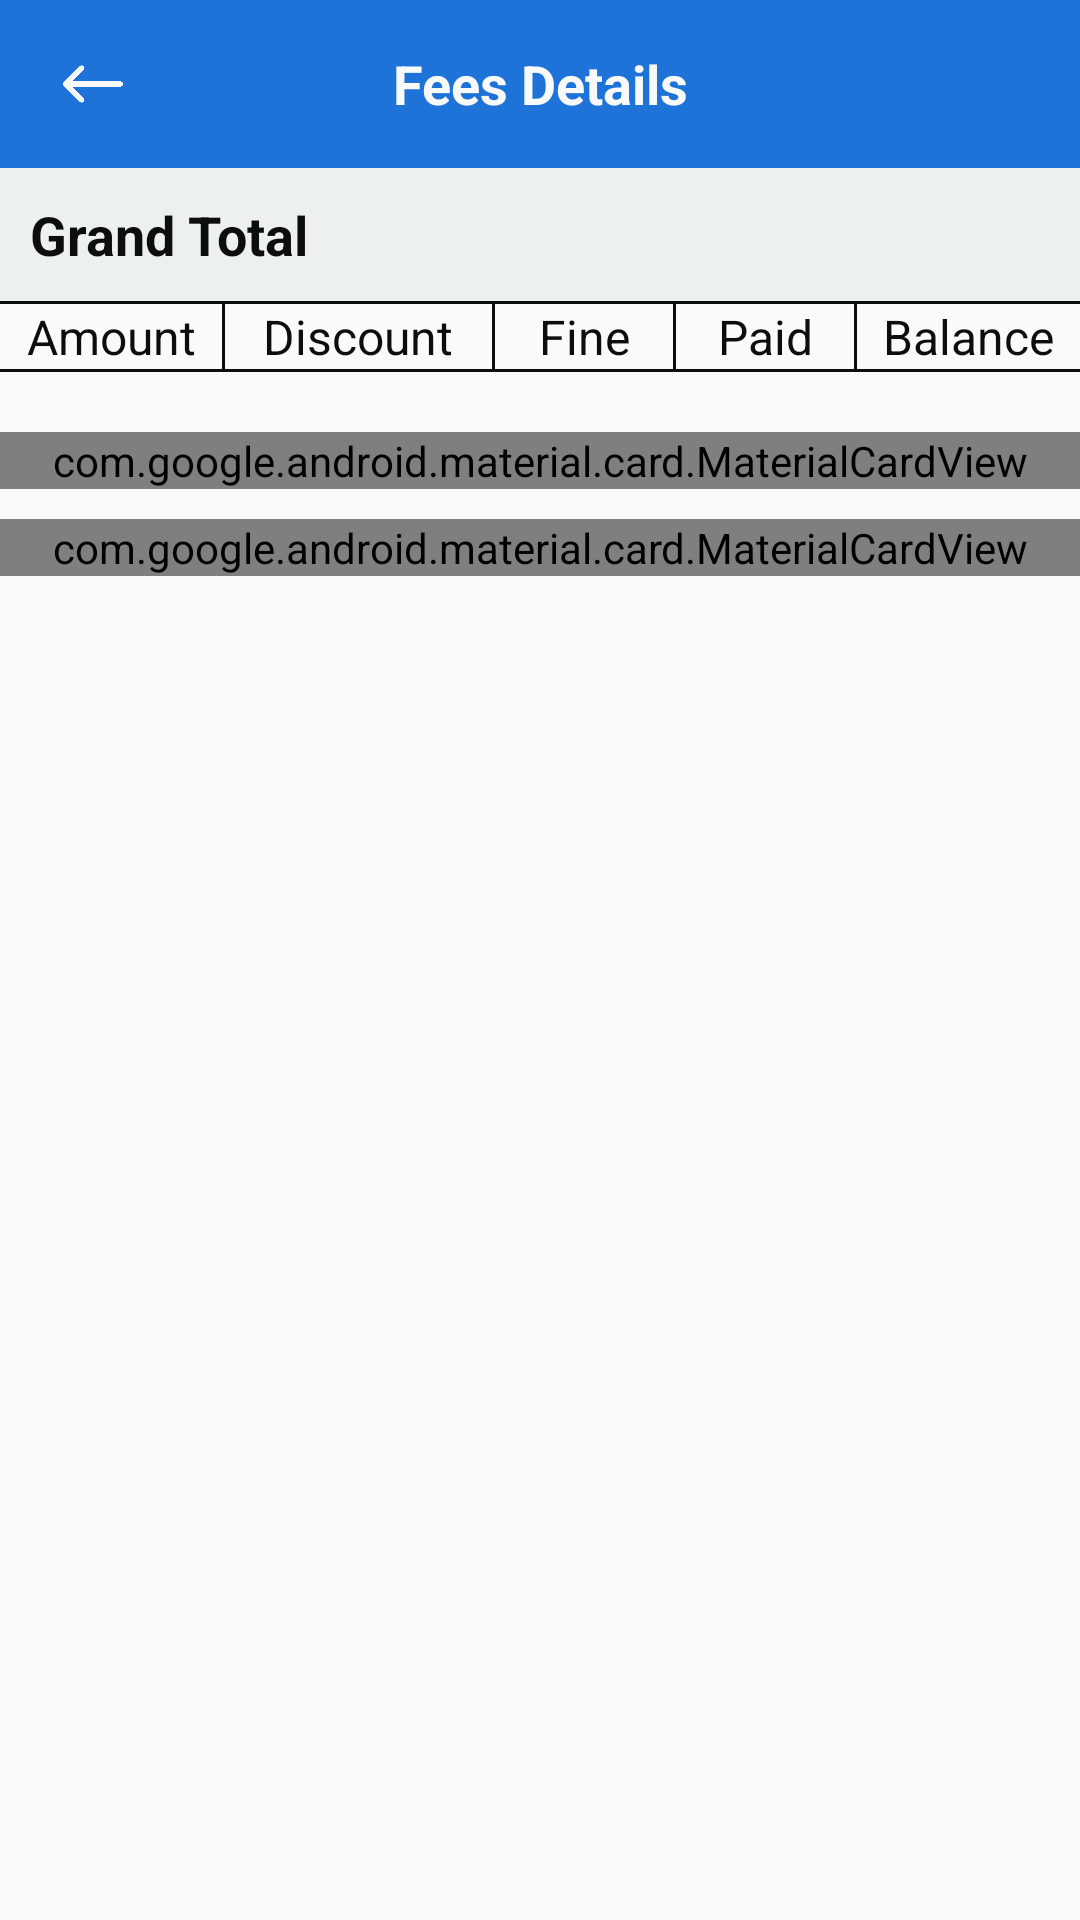

Icons on this 1080px x 1920px Android screen, each with its box as rect(x1, y1, x2, y2):
leftarrow: rect(63, 65, 123, 103)
